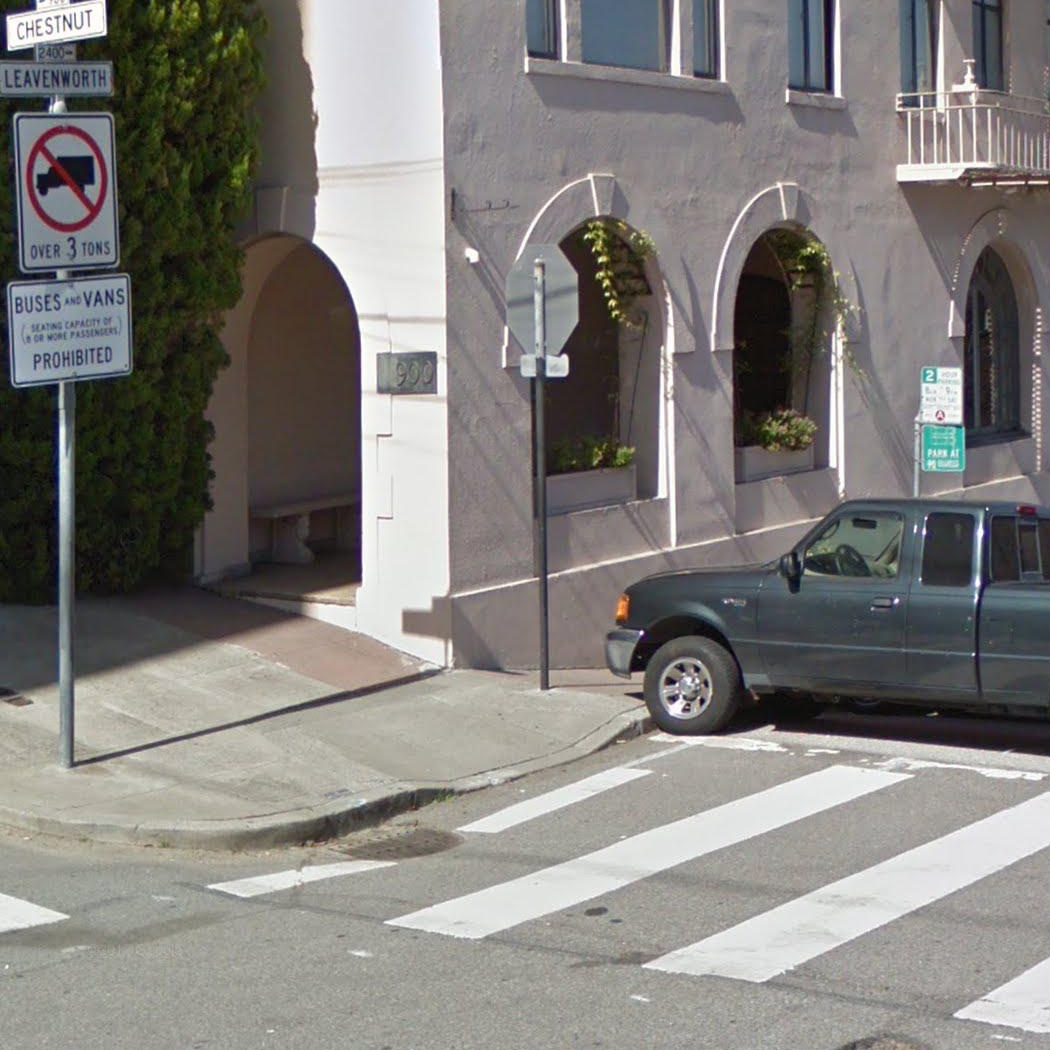2 Hour Parking: (919, 365, 964, 425)
